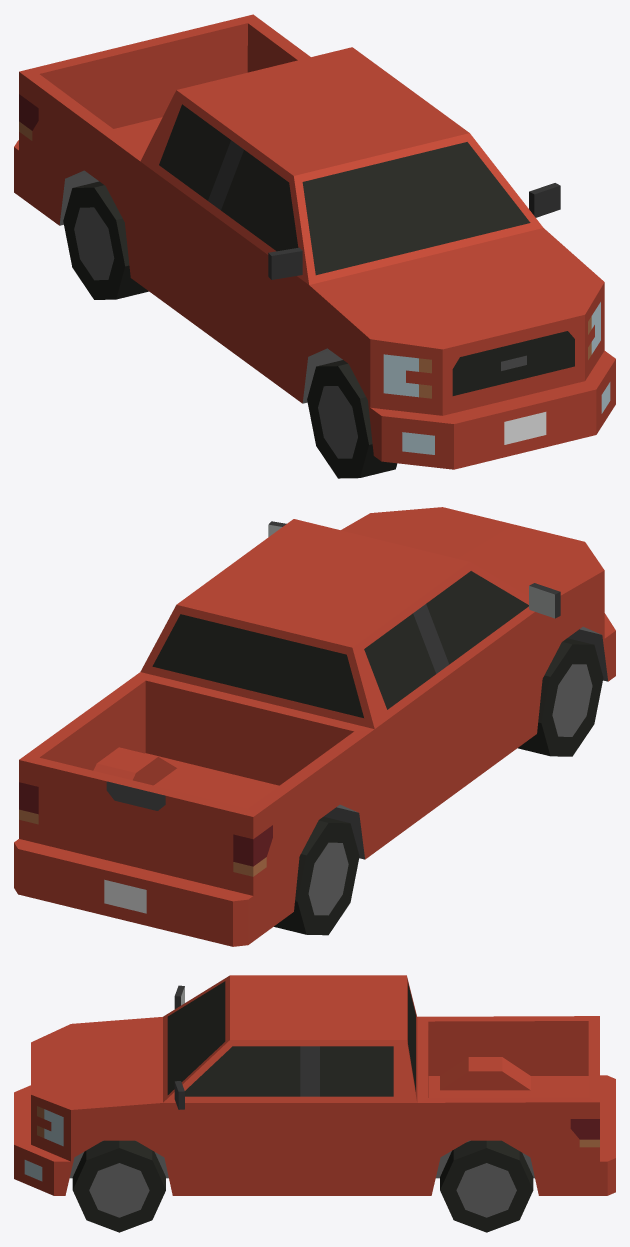
The model's file is Veh_Pickup_03_Red.obj.
3 renders of one model, top to bottom at view 1: azimuth 30°, elevation 25°; view 2: azimuth 150°, elevation 25°; view 3: azimuth 270°, elevation 25°, orthographic. The views are drawn at different scales.
Size of the model in its own units: 1.37 by 1.1 by 3.29.
